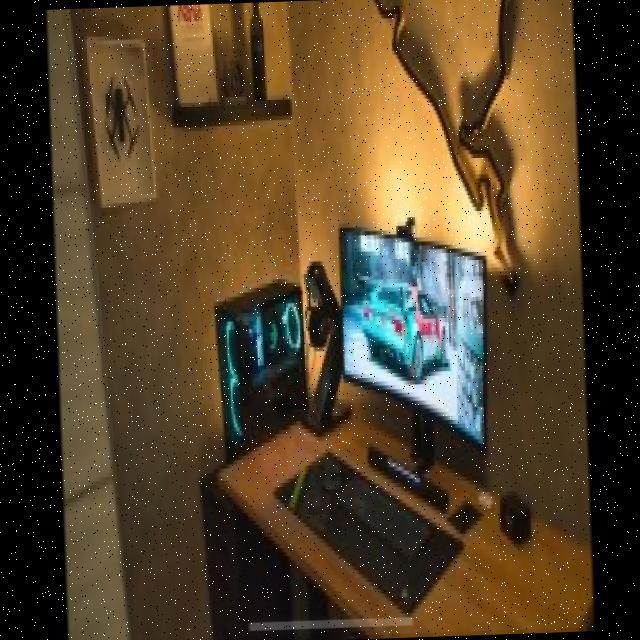Computer: (208, 274, 312, 450)
Monitor: (336, 221, 504, 470)
